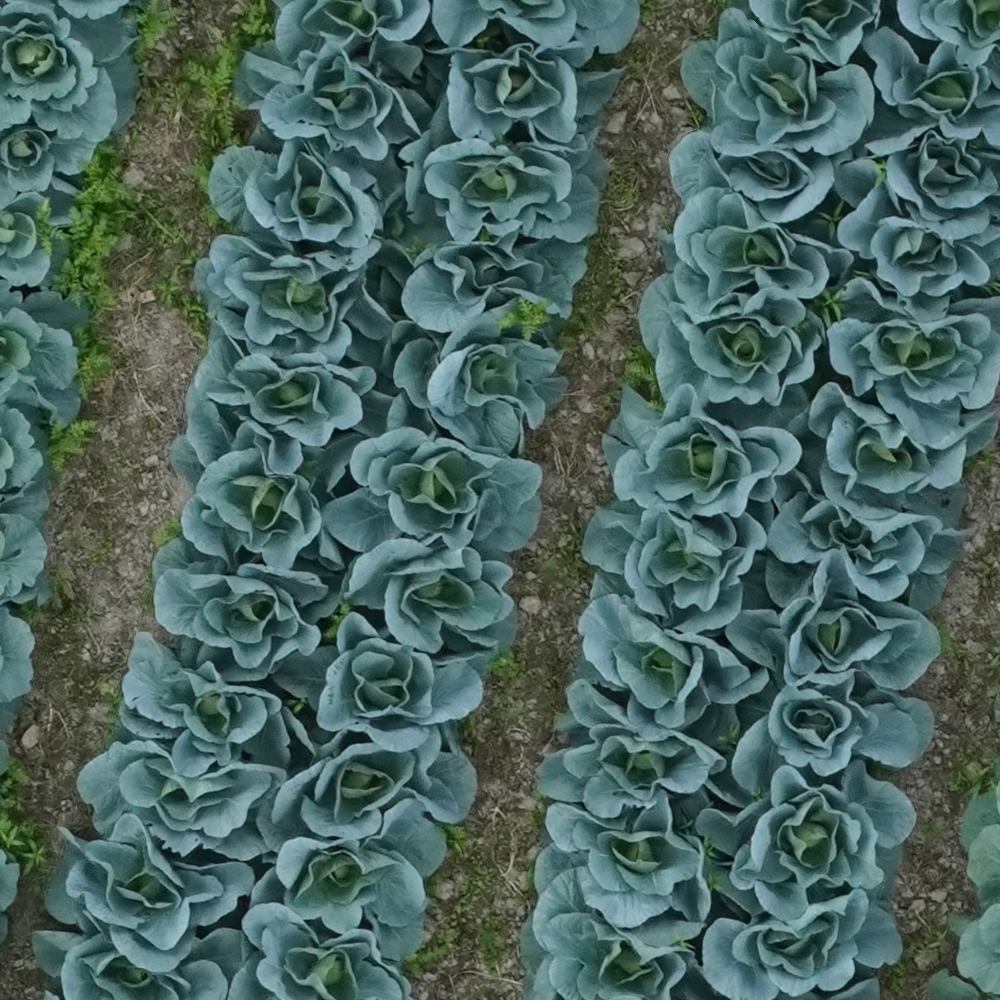Cabbage: (709, 629, 941, 813), (172, 388, 364, 576), (321, 394, 543, 554), (697, 758, 916, 919), (47, 813, 258, 973), (604, 383, 803, 549), (196, 317, 399, 478), (578, 572, 771, 740), (249, 800, 445, 962), (639, 261, 821, 431), (726, 549, 942, 689), (277, 612, 488, 751), (828, 277, 999, 446), (805, 382, 1000, 530), (681, 9, 875, 156), (398, 132, 609, 266), (119, 633, 313, 778), (257, 728, 475, 856), (767, 470, 967, 608), (152, 538, 342, 683), (392, 300, 570, 454), (837, 161, 1000, 325), (194, 233, 397, 361), (528, 791, 712, 931), (78, 740, 287, 863), (536, 682, 725, 818), (660, 185, 854, 316), (581, 499, 767, 632), (236, 40, 436, 161), (520, 877, 715, 1000), (208, 127, 403, 250), (423, 45, 627, 157), (701, 888, 903, 1000), (341, 534, 521, 655), (0, 0, 141, 143), (402, 234, 589, 335), (227, 905, 412, 1000), (863, 31, 1000, 157), (669, 132, 852, 224), (33, 928, 242, 1000), (430, 0, 640, 64), (0, 281, 87, 430), (886, 130, 1000, 241), (271, 0, 432, 63), (0, 176, 85, 289), (0, 116, 96, 211), (749, 0, 883, 64), (895, 0, 1000, 69)
